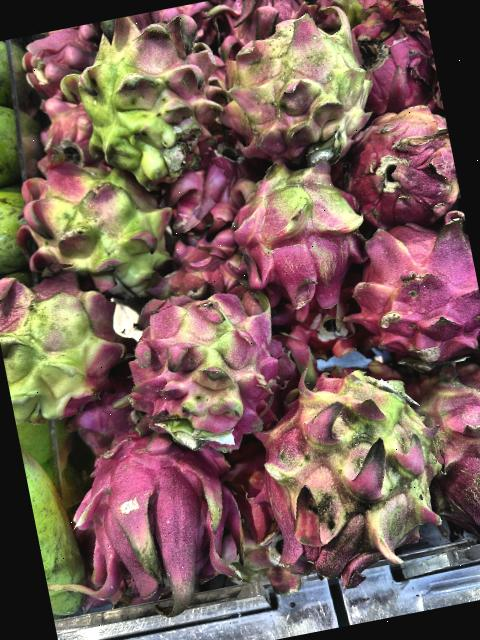buah-naga-belum-matang: (244, 352, 456, 594), (114, 267, 294, 456), (60, 2, 228, 190), (209, 0, 387, 168), (12, 136, 190, 304), (220, 152, 372, 314), (0, 253, 127, 410)
buah-naga-matang: (69, 418, 255, 619), (322, 199, 480, 374), (331, 94, 462, 228), (400, 350, 480, 537), (346, 0, 442, 117), (12, 23, 104, 97), (204, 0, 309, 46)
